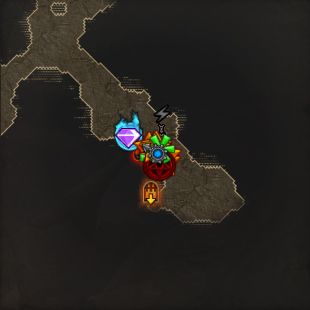Exit: (141, 179, 161, 207)
Urushi: (115, 111, 141, 151)
